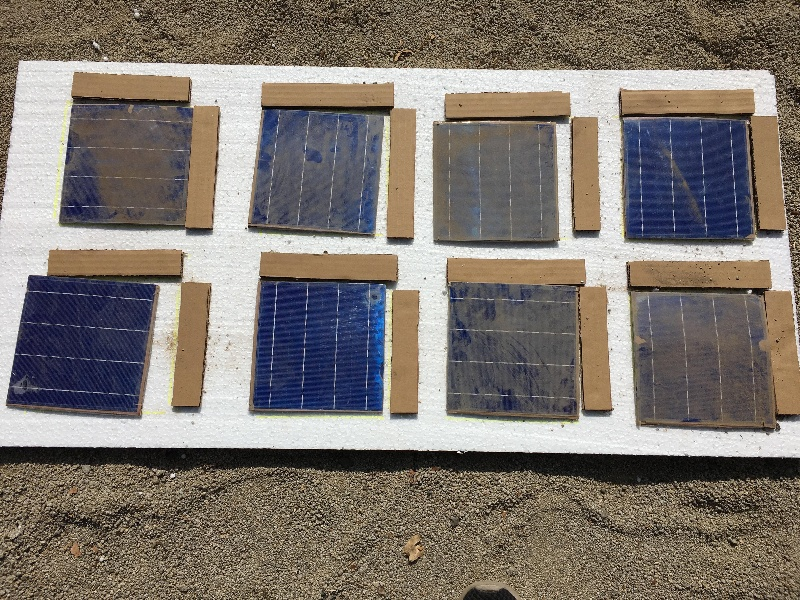clean: (623, 115, 757, 243)
dirty: (629, 290, 783, 430), (448, 280, 588, 421), (52, 99, 193, 225), (429, 117, 567, 245), (243, 109, 384, 232)
dog: (9, 274, 153, 418), (252, 279, 385, 416)
